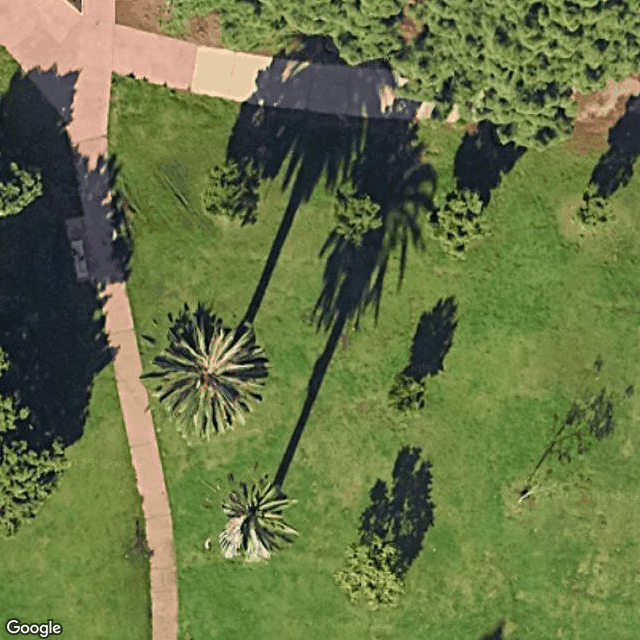palm: (134, 302, 271, 441), (192, 462, 305, 574)
